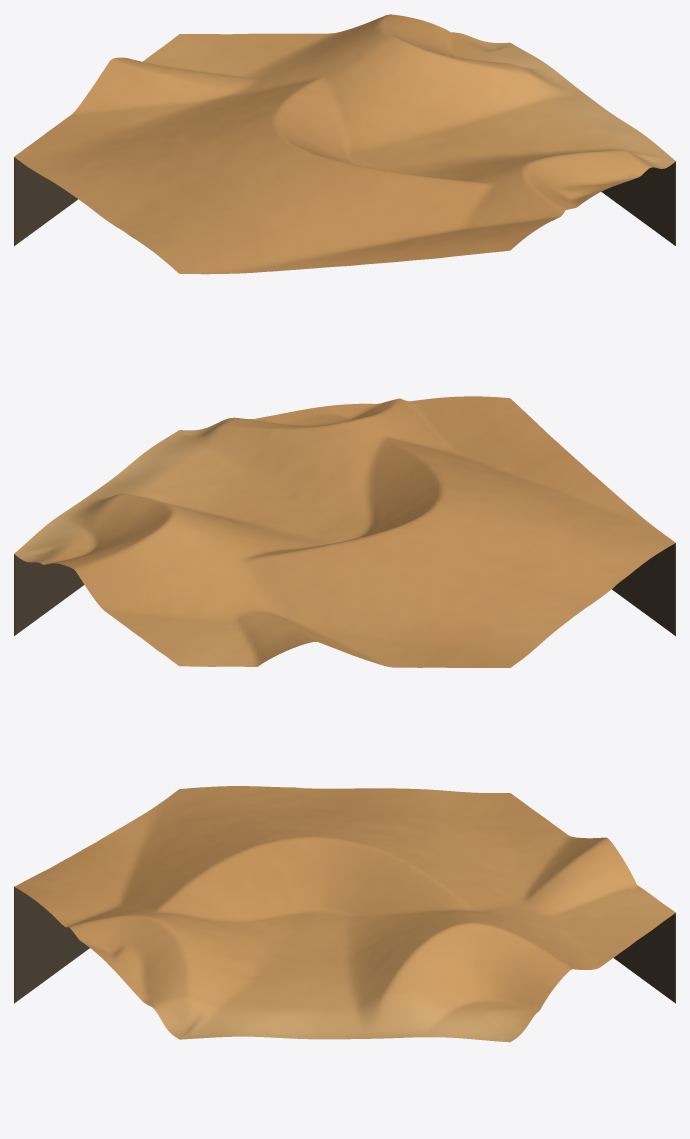
The picture shows the model from 3 angles, top to bottom: view 1: azimuth 30°, elevation 25°; view 2: azimuth 150°, elevation 25°; view 3: azimuth 270°, elevation 25°; orthographic projection.
Visible parts, largest first — view 1: terrain, hex_side_cut; view 2: terrain, hex_side_cut; view 3: terrain, hex_side_cut.
Part boxes in pixels (left/top/right/bottom): terrain: left=14, top=14, right=675, bottom=274; hex_side_cut: left=14, top=157, right=675, bottom=245; terrain: left=14, top=396, right=675, bottom=667; hex_side_cut: left=14, top=543, right=675, bottom=635; terrain: left=14, top=786, right=675, bottom=1042; hex_side_cut: left=14, top=887, right=675, bottom=1003.
Bounding box in the file's own units: 4330 × 1127 × 5000.
